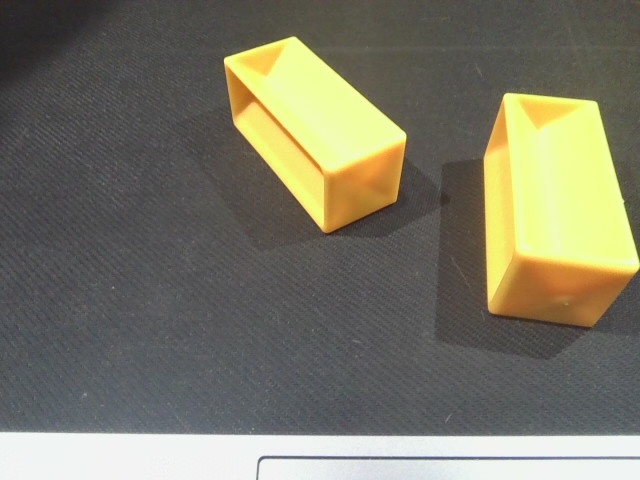YellowSample: (482, 88, 640, 335), (221, 34, 406, 238)
